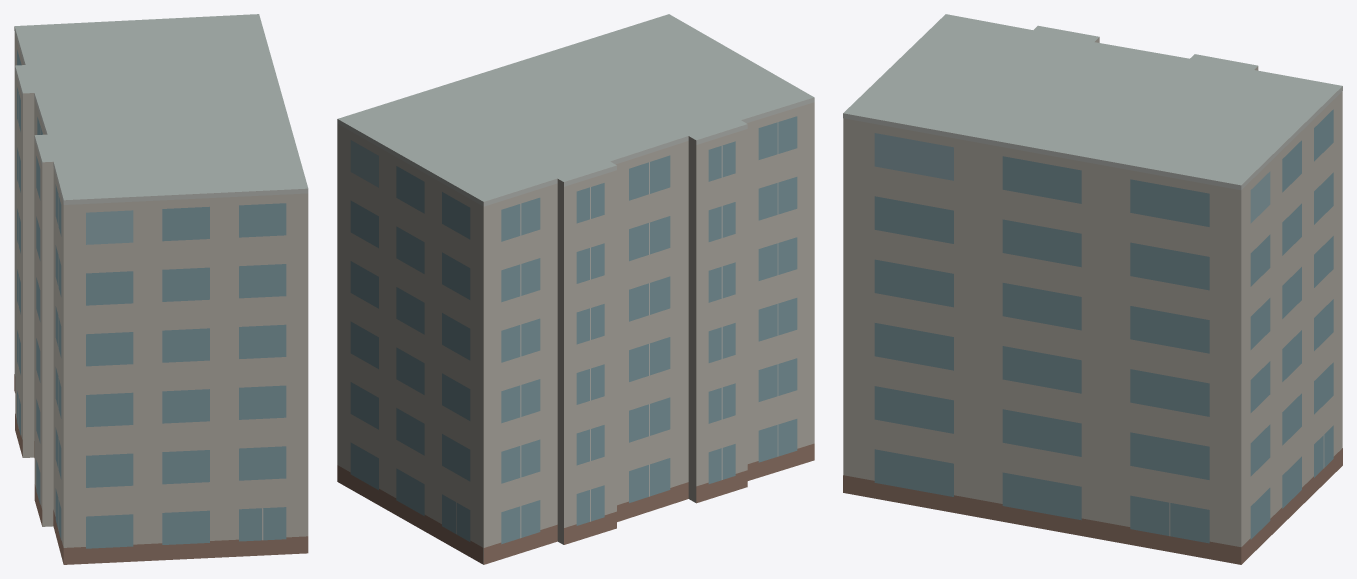
The model's file is survey-upis-32894493.glb.
3 renders of one model, left to right at view 1: azimuth 30°, elevation 25°; view 2: azimuth 150°, elevation 25°; view 3: azimuth 270°, elevation 25°, orthographic. The views are drawn at different scales.
Parts seen in each view (by area): view 1: survey-upis-32894493.tmp; view 2: survey-upis-32894493.tmp; view 3: survey-upis-32894493.tmp.
Part boxes in pixels (<box>): survey-upis-32894493.tmp: <box>14,14,308,564</box>; survey-upis-32894493.tmp: <box>337,14,814,564</box>; survey-upis-32894493.tmp: <box>843,14,1342,564</box>.
Size of the model in its own units: 17.92 by 18.5 by 22.08.
